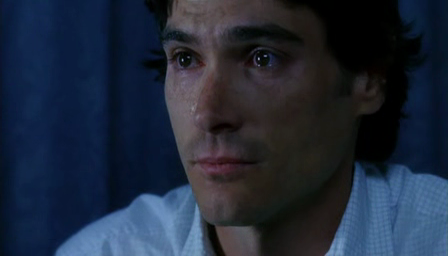cu: (1, 1, 448, 256)
face: (164, 1, 326, 226)
person: (52, 1, 448, 256)
